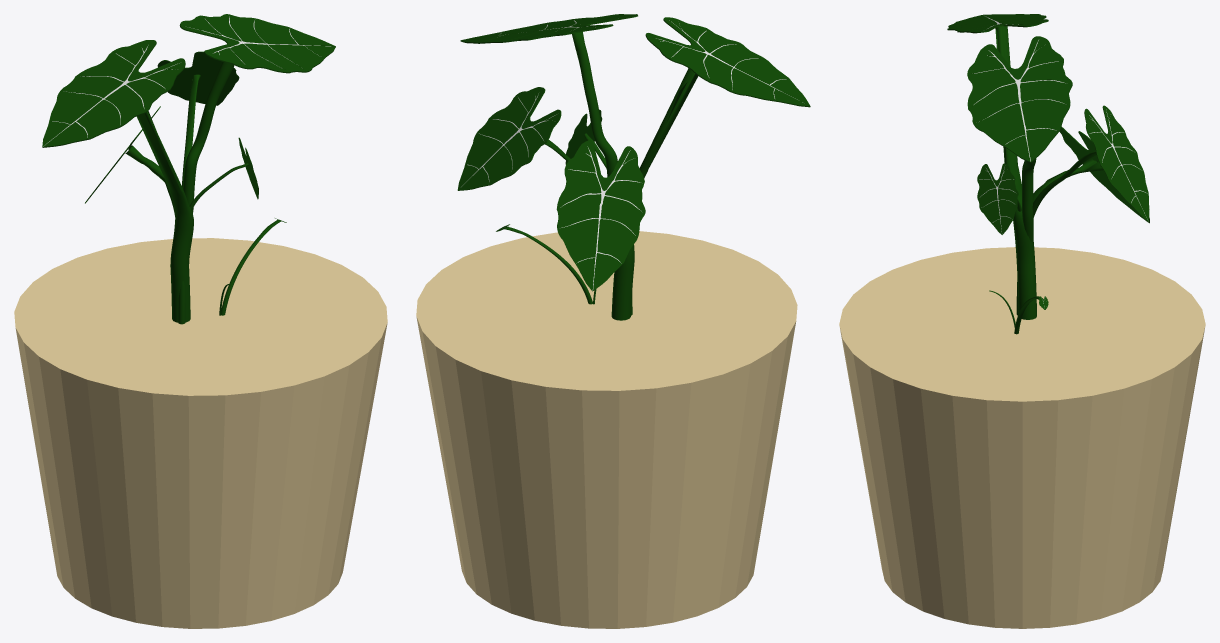
Rendered from Alokasia10.glb.
3 views of the same model, side by side, from view 1: azimuth 30°, elevation 25°; view 2: azimuth 150°, elevation 25°; view 3: azimuth 270°, elevation 25° (orthographic). The views are drawn at different scales.
Parts seen in each view (by area): view 1: 흙임, 잎.003, 잎잎; view 2: 흙임, 잎.003; view 3: 흙임, 잎.003.
Part boxes in pixels (x1=…): 흙임: x1=14, y1=238, x2=387, y2=628; 잎.003: x1=42, y1=14, x2=335, y2=324; 잎잎: x1=221, y1=218, x2=286, y2=315; 흙임: x1=416, y1=231, x2=797, y2=628; 잎.003: x1=457, y1=14, x2=810, y2=320; 흙임: x1=839, y1=247, x2=1205, y2=628; 잎.003: x1=947, y1=14, x2=1149, y2=319.
Bounding box in the file's own units: 0.3369 × 0.509 × 0.3201.
